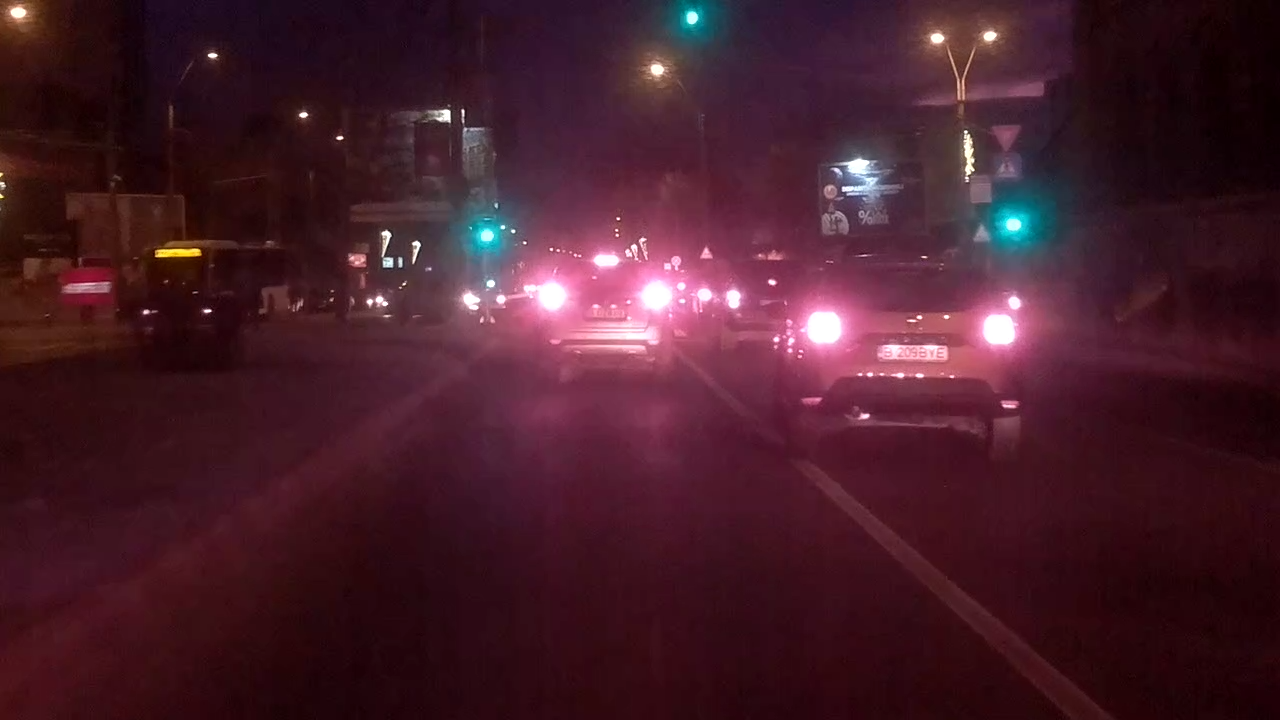license-plate: (872, 341, 951, 363)
